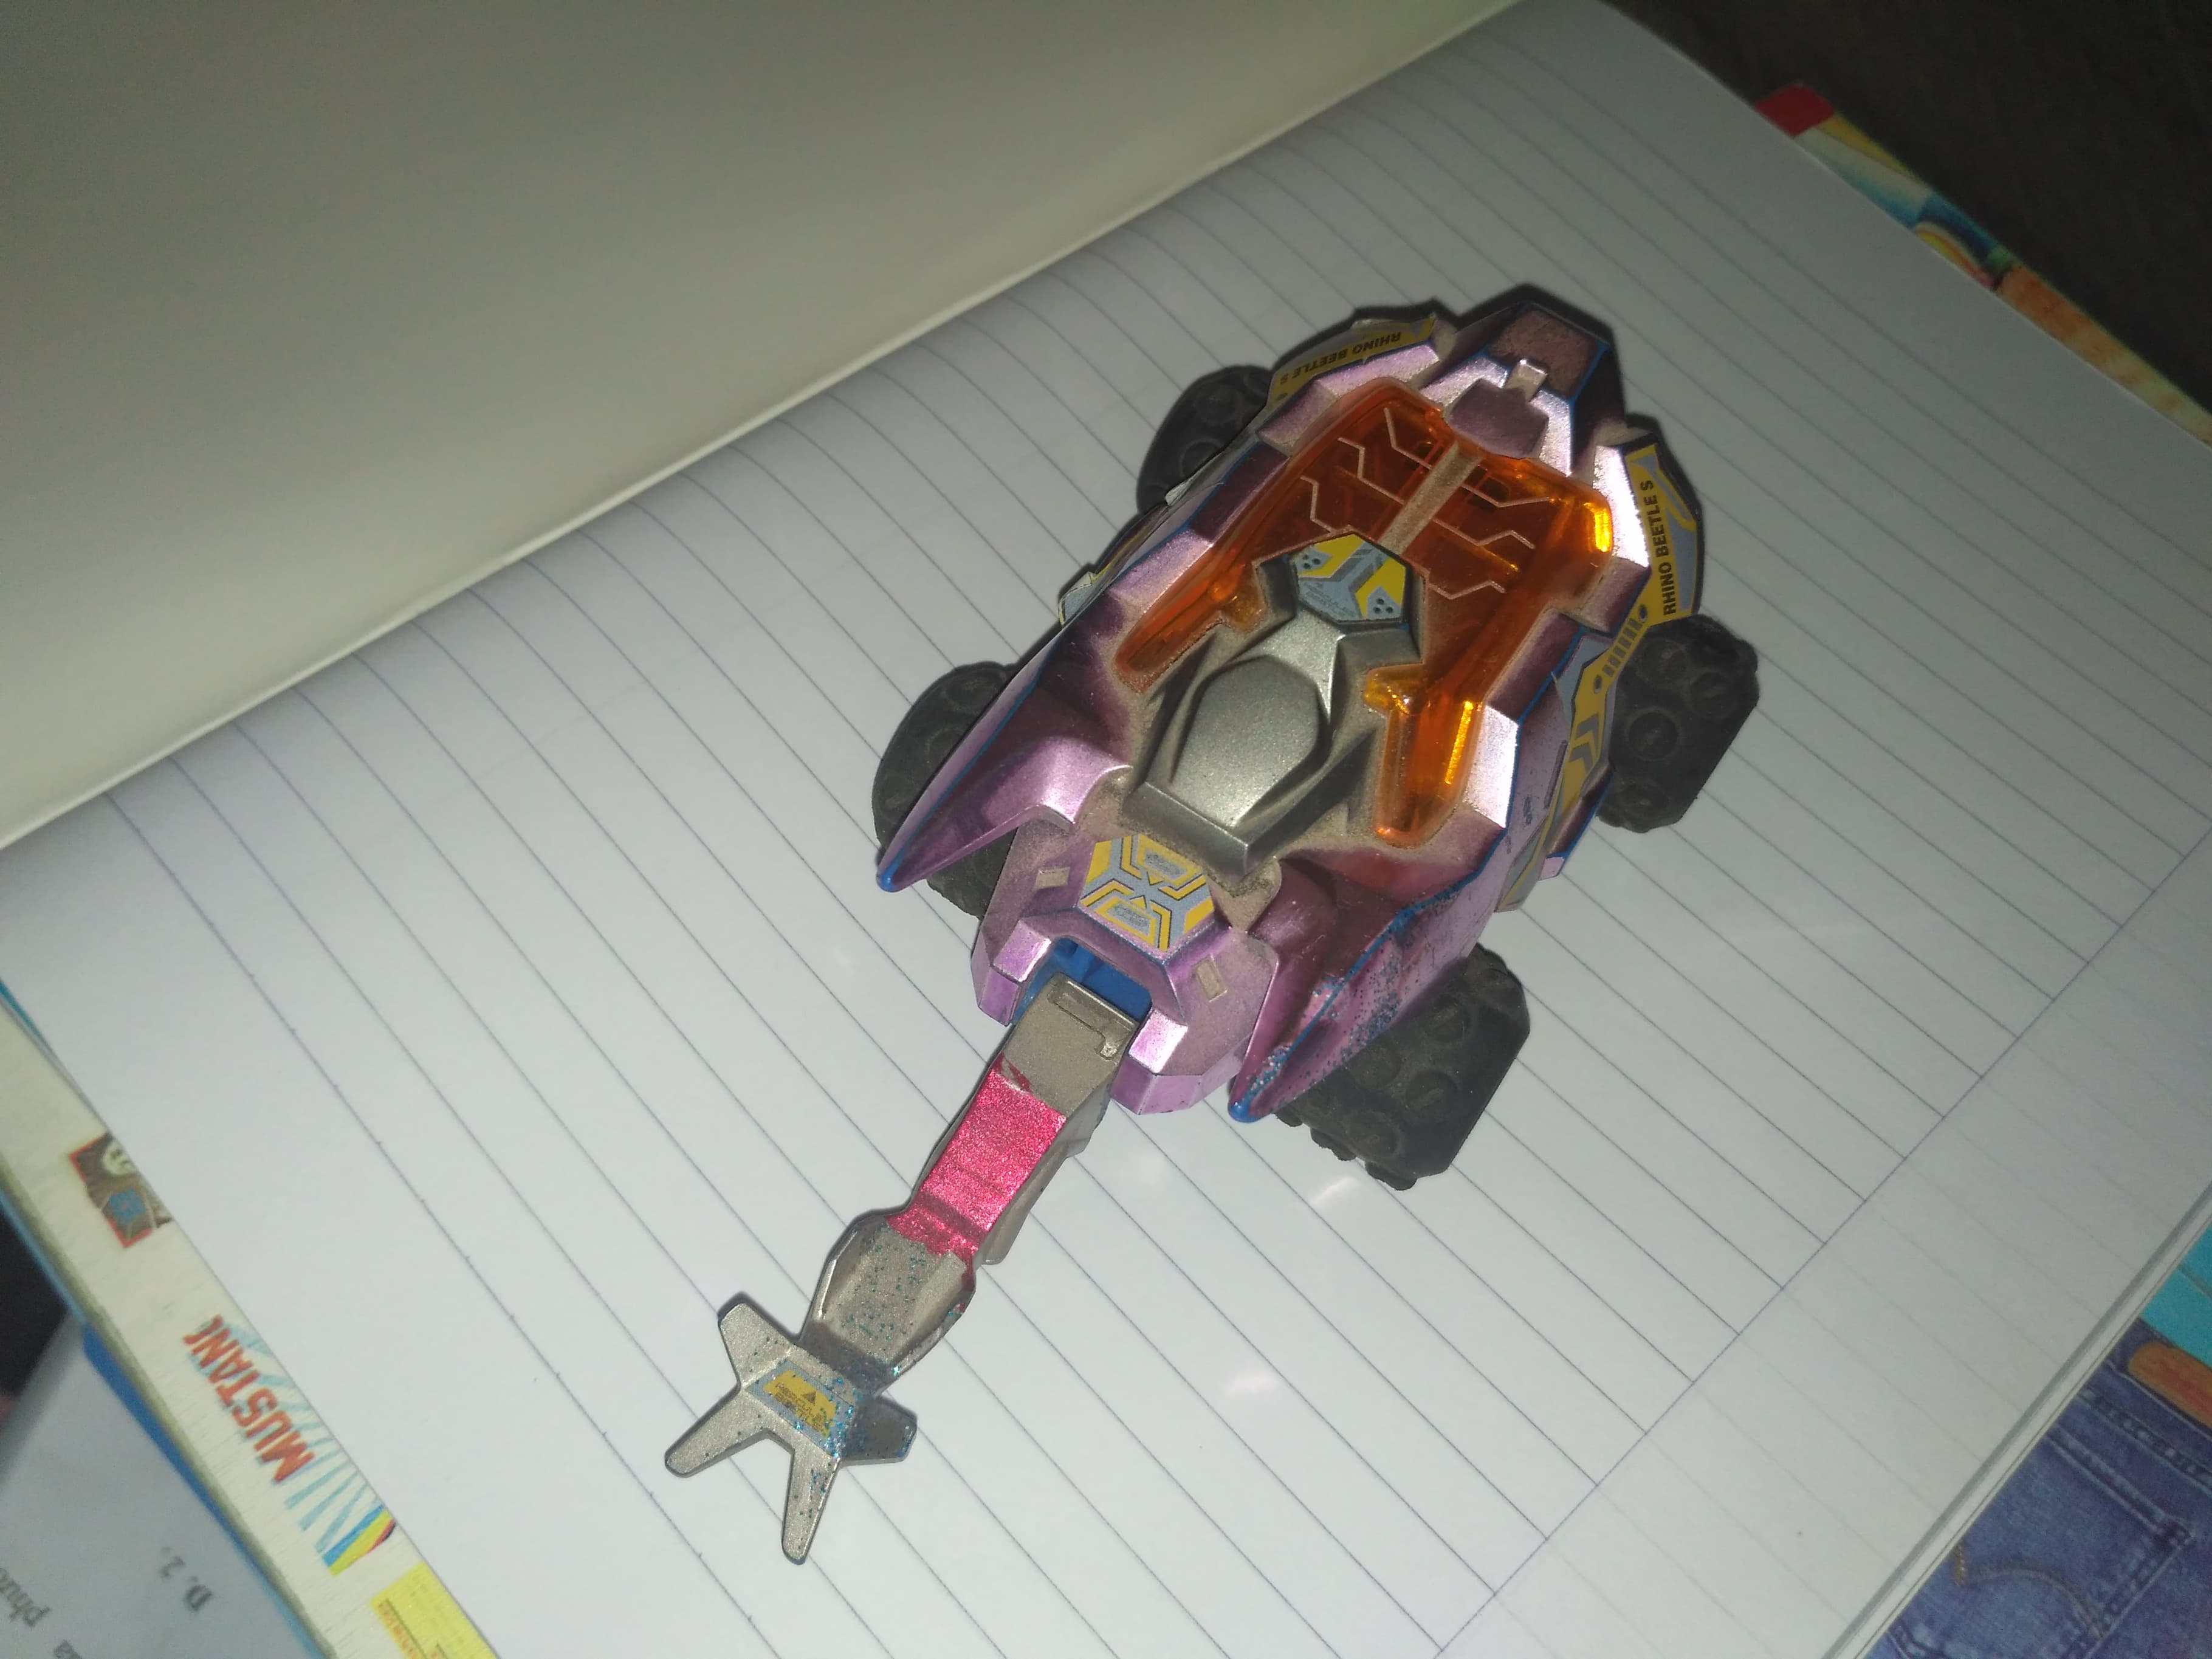rhino: (650, 261, 1759, 1582)
